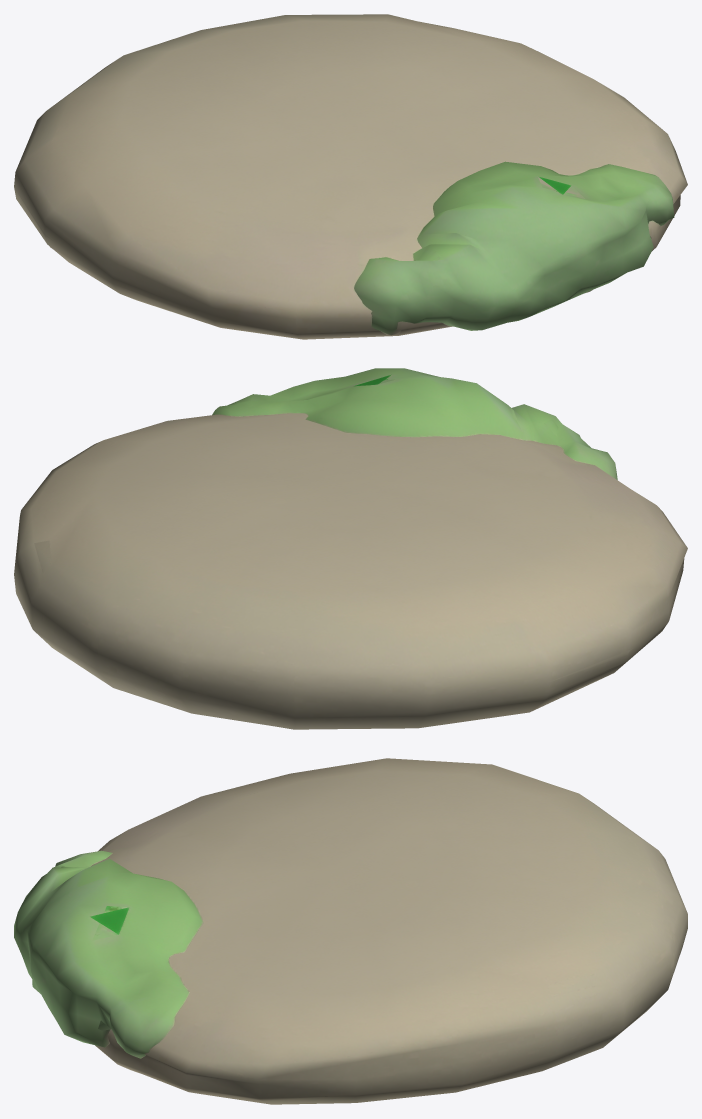
Rendered from path_stone.glb.
3 views of the same model, one above another, from view 1: azimuth 30°, elevation 25°; view 2: azimuth 150°, elevation 25°; view 3: azimuth 270°, elevation 25° (orthographic). The views are drawn at different scales.
Parts seen in each view (by area): view 1: mesh_node; view 2: mesh_node; view 3: mesh_node.
Part boxes in pixels (x1,y1,x2,y2): mesh_node: (14,14,687,339); mesh_node: (14,368,687,729); mesh_node: (14,758,687,1104).
Size of the model in its own units: 0.998 by 0.2217 by 0.9922.
1 material, 1 textured.
